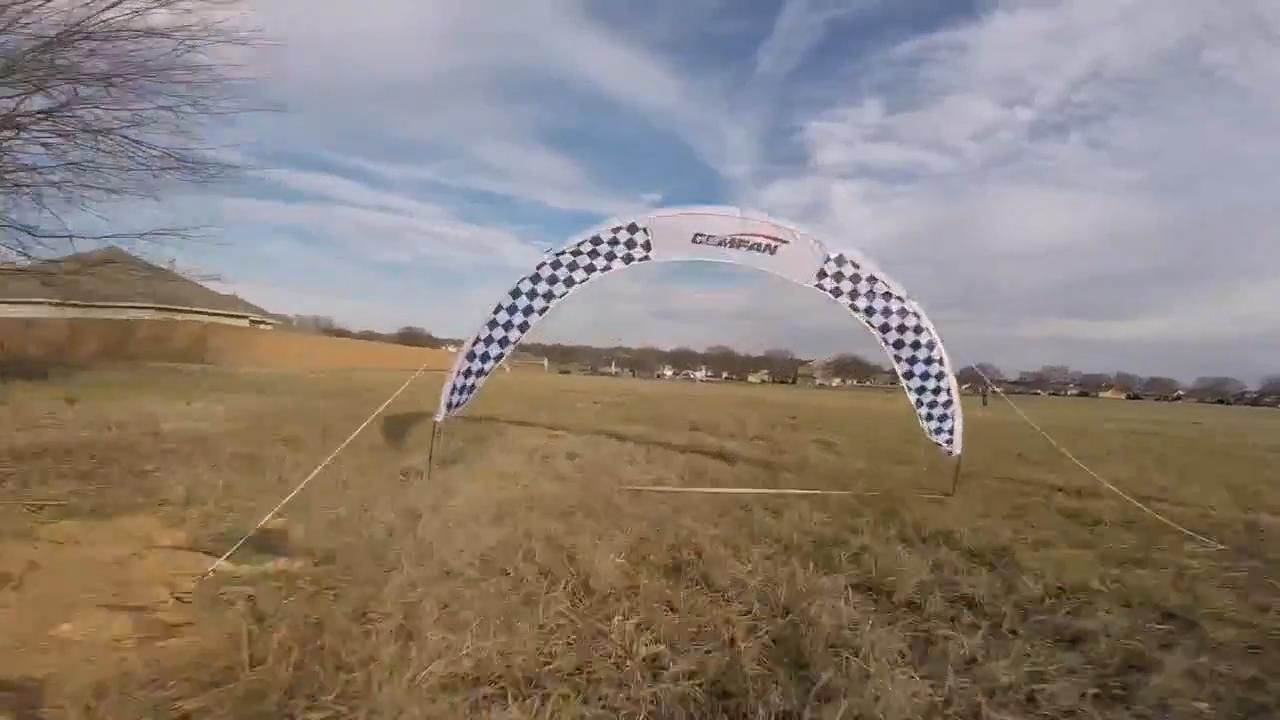gate: (434, 203, 960, 460)
